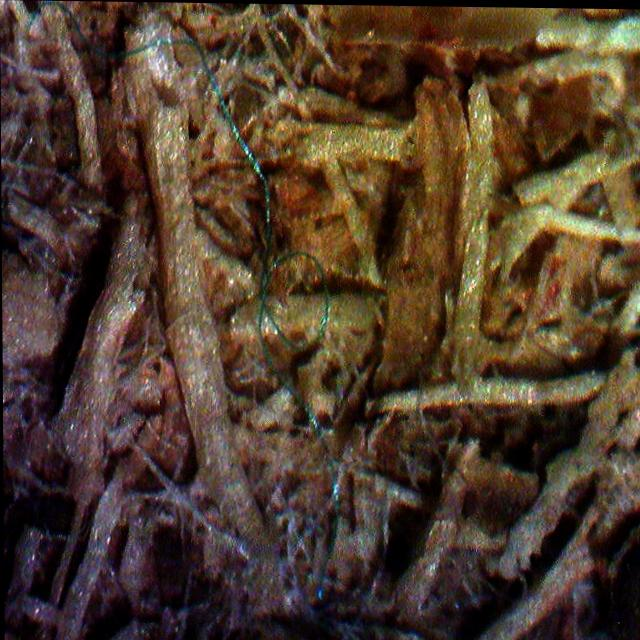microplastic: (22, 0, 344, 592)
